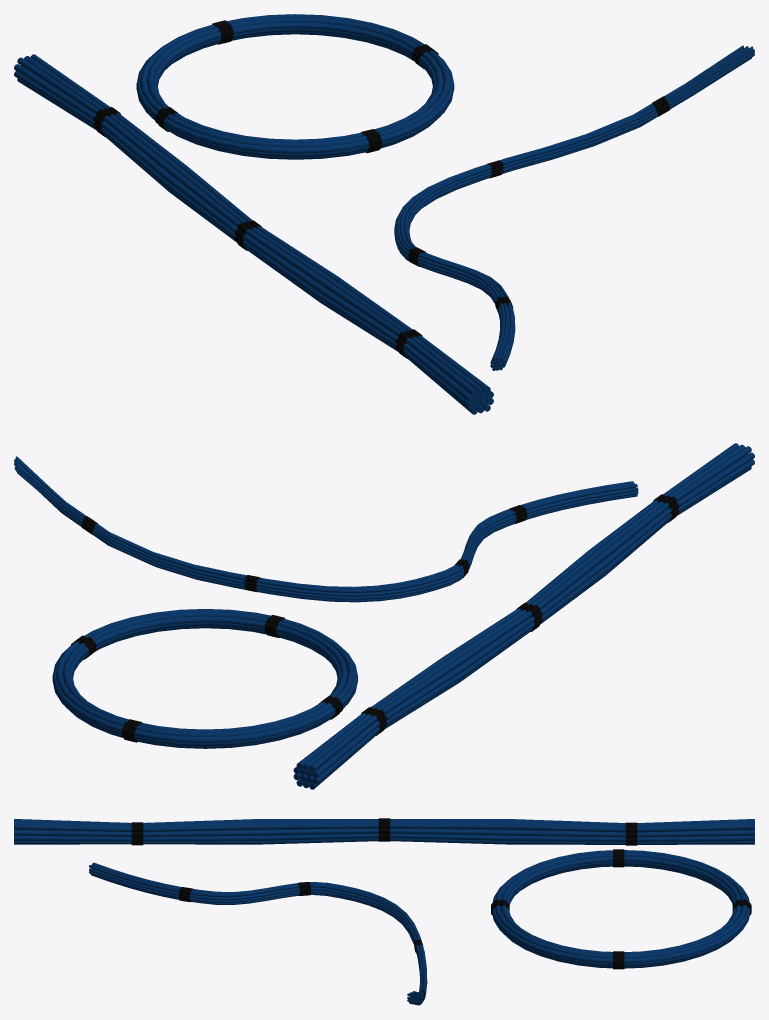
Rendered from uploads_files_5735937_Cable+Set.fbx.
The picture shows the model from 3 angles, top to bottom: view 1: azimuth 30°, elevation 25°; view 2: azimuth 150°, elevation 25°; view 3: azimuth 270°, elevation 25°; orthographic projection. The views are drawn at different scales.
Visible parts, largest first — view 1: Cable 1, Cable 2, Cable 3; view 2: Cable 1, Cable 2, Cable 3, Tape 01; view 3: Cable 1, Cable 2, Cable 3, Tape 02.
Part boxes in pixels (bbox=[...]): Cable 1: bbox=[14, 54, 493, 414]; Cable 2: bbox=[136, 14, 454, 159]; Cable 3: bbox=[394, 45, 754, 370]; Cable 1: bbox=[293, 443, 754, 789]; Cable 2: bbox=[52, 609, 357, 748]; Cable 3: bbox=[14, 456, 638, 602]; Tape 01: bbox=[122, 615, 285, 742]; Cable 1: bbox=[14, 819, 754, 844]; Cable 2: bbox=[492, 850, 750, 968]; Cable 3: bbox=[89, 862, 427, 1005]; Tape 02: bbox=[613, 849, 624, 969].
Bounding box in the file's own units: 173 × 22.86 × 257.
